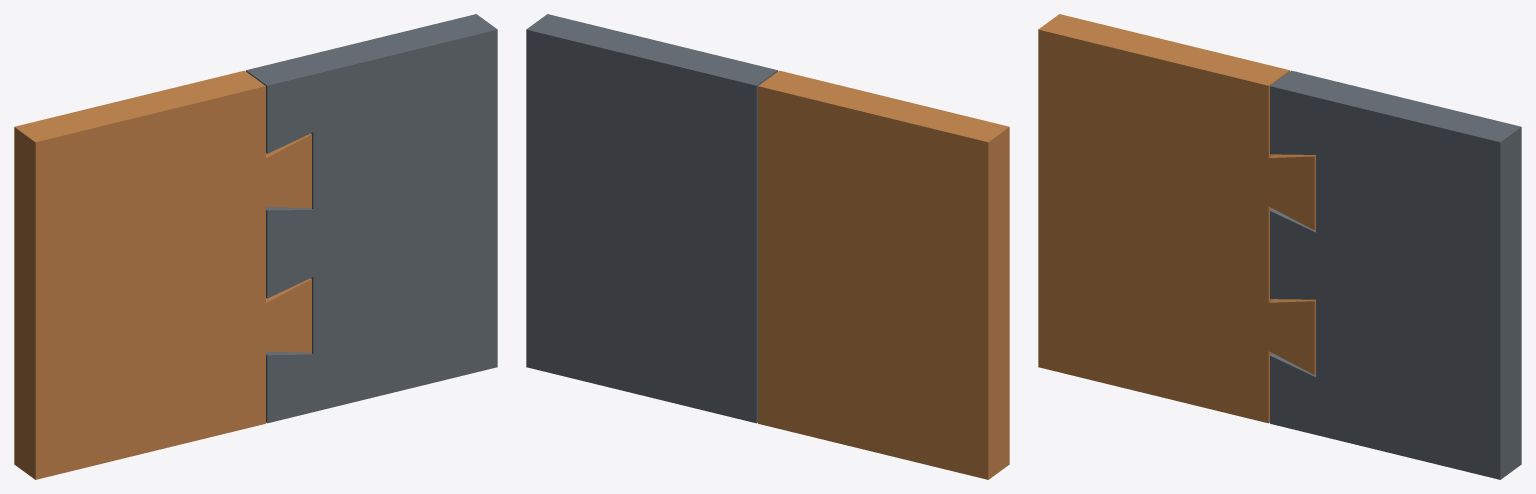
The picture shows the model from 3 angles, left to right: view 1: azimuth 30°, elevation 25°; view 2: azimuth 150°, elevation 25°; view 3: azimuth 330°, elevation 25°; orthographic projection.
Parts seen in each view (by area): view 1: plaque_a, plaque_b; view 2: plaque_a, plaque_b; view 3: plaque_a, plaque_b.
Boxes of the visible parts, <box> form: plaque_a: <box>14,70,311,479</box>; plaque_b: <box>246,14,497,423</box>; plaque_a: <box>758,70,1009,479</box>; plaque_b: <box>526,14,777,423</box>; plaque_a: <box>1038,14,1315,423</box>; plaque_b: <box>1270,70,1521,479</box>.
Size of the model in its own units: 100 by 70 by 8.
